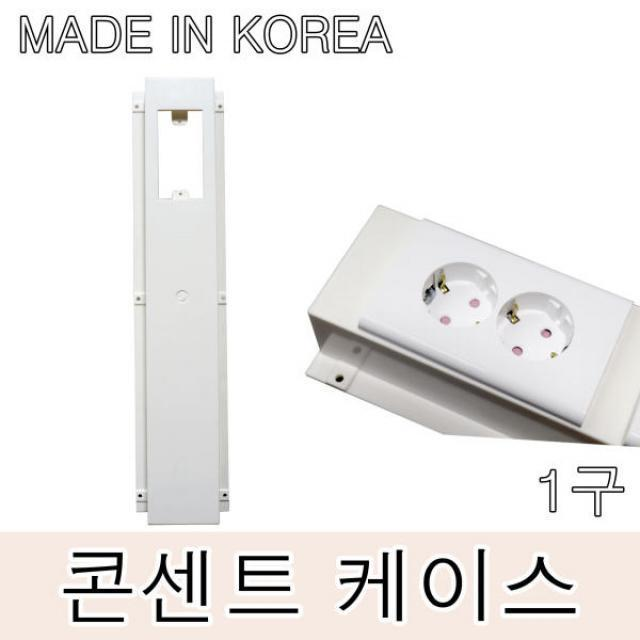typeb: (325, 198, 635, 448)
